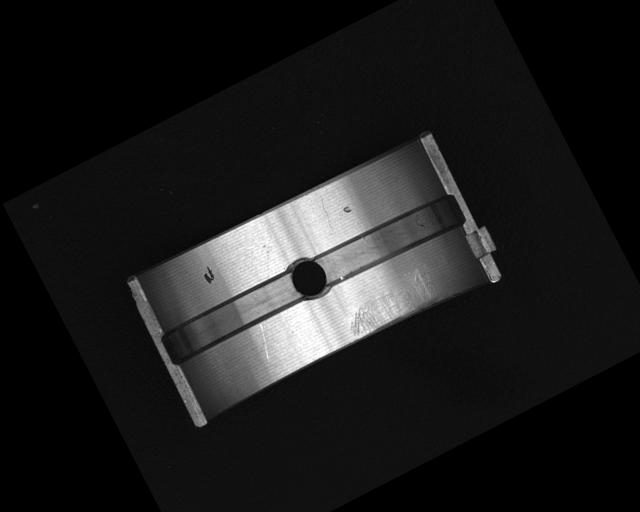blot: (200, 264, 218, 286)
bruise: (341, 203, 353, 215)
gap: (309, 186, 468, 295), (155, 267, 307, 370)
hole: (282, 250, 336, 309)
nick: (250, 323, 278, 363), (316, 198, 336, 229)
scratch: (338, 264, 443, 344)
